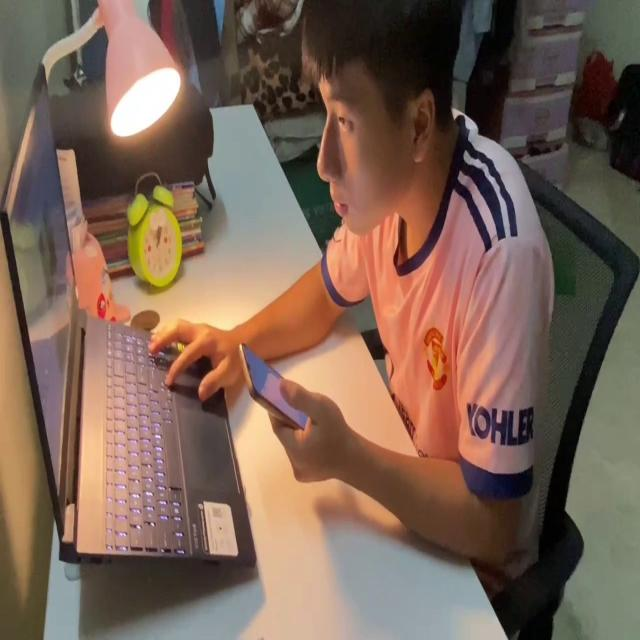laptop: (0, 57, 260, 572)
phone: (239, 323, 308, 442)
student: (146, 0, 550, 576)
